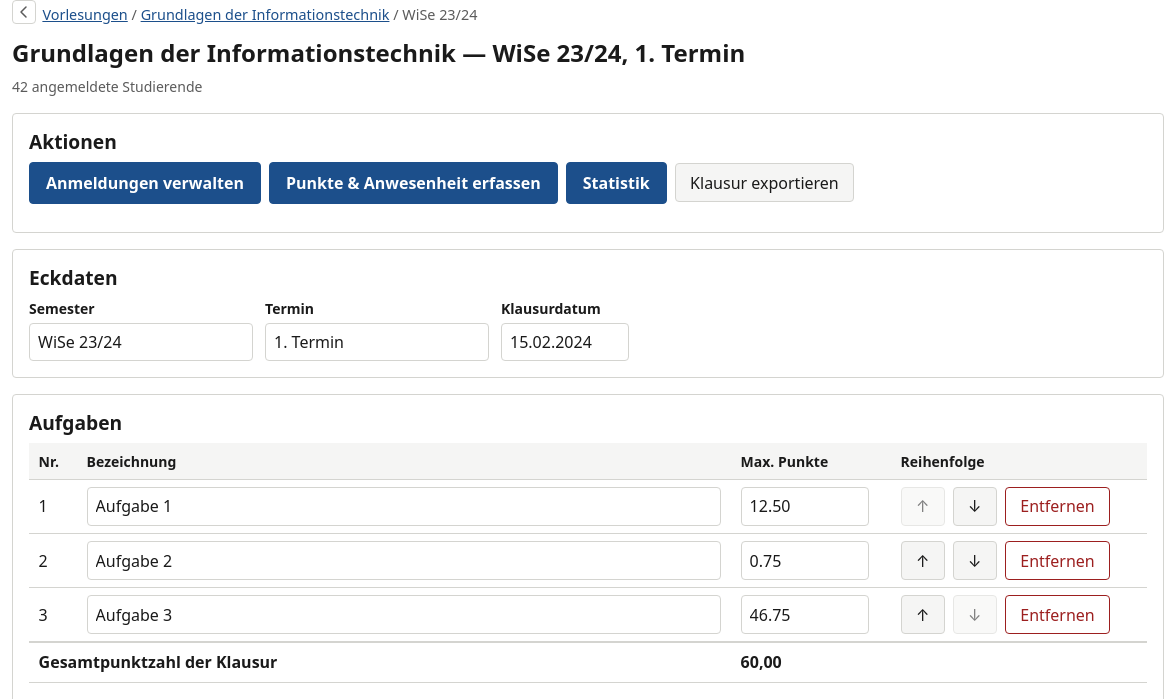
Test case: ExamDetailPage — grading preview › sums blank and filled exercise fields, blanks counting as 0 (Fix 1)
Replace the text in the field named "Maximale Punkte der Aufgabe 1" with "12.5": (805, 506) [741,487,869,526]
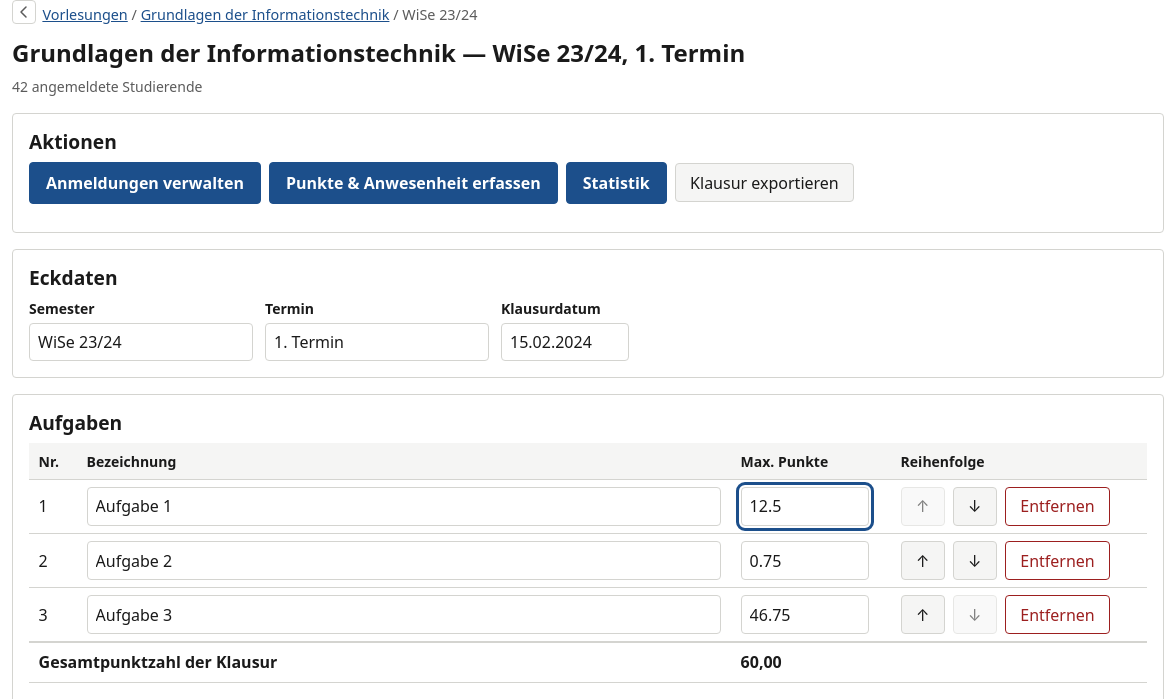
Clear the field named "Maximale Punkte der Aufgabe 2": (805, 560) [741,541,869,580]
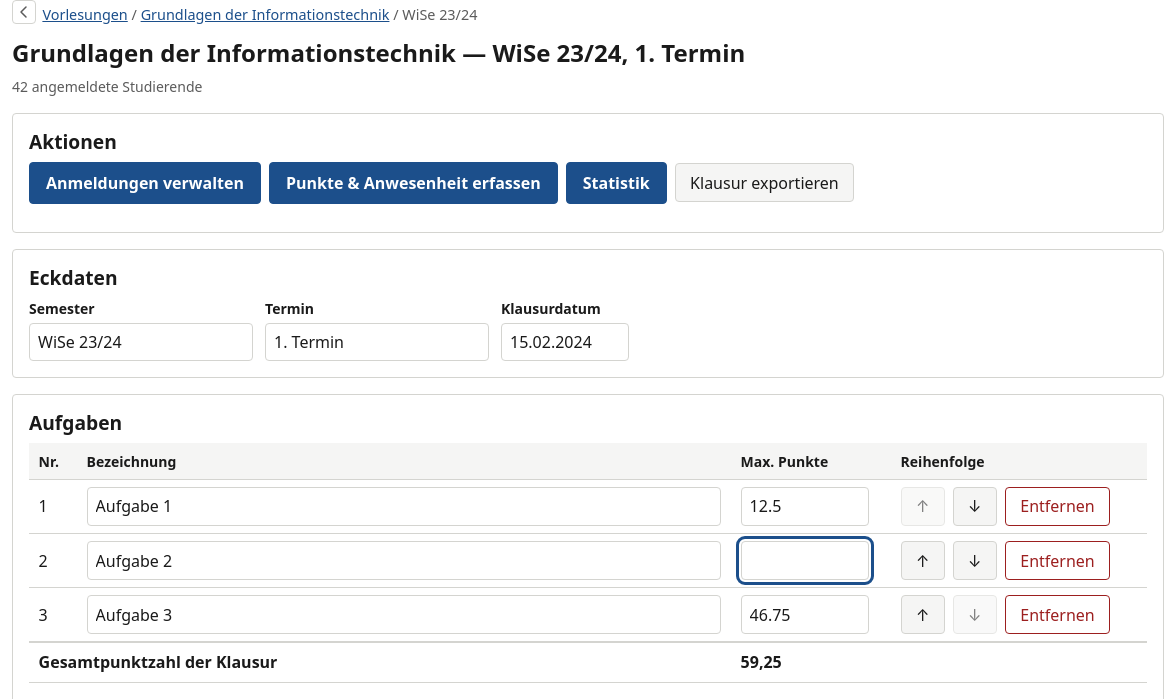
Replace the text in the field named "Maximale Punkte der Aufgabe 3" with "7.25": (805, 615) [741,595,869,634]
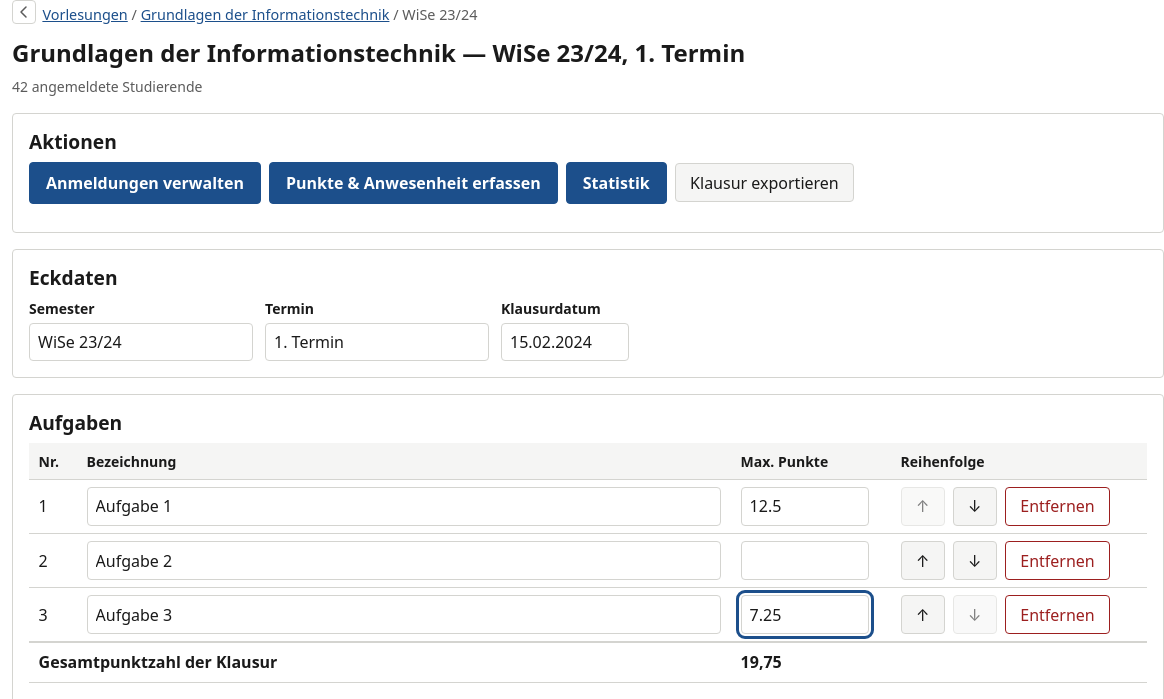
Expected: the cell with test id "total-max-points" reads "19,75", [741,651,782,673]
